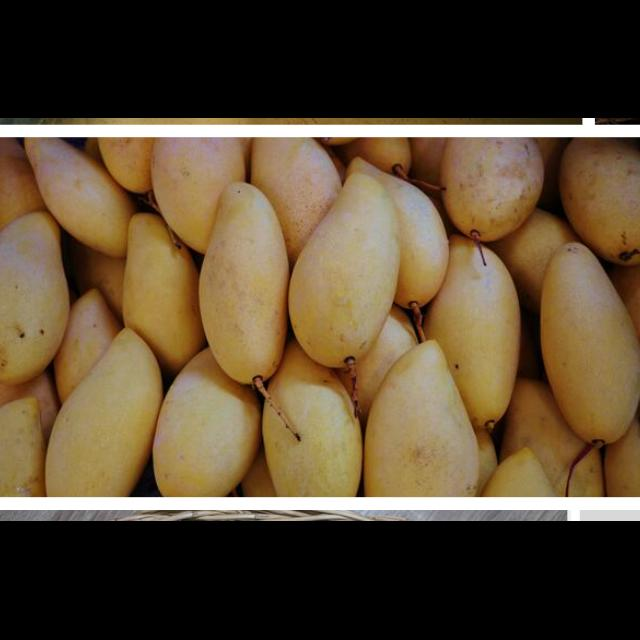mango: (289, 172, 401, 366), (538, 242, 640, 446), (199, 180, 286, 386)
